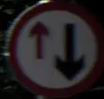Two way: (17, 5, 90, 79)
